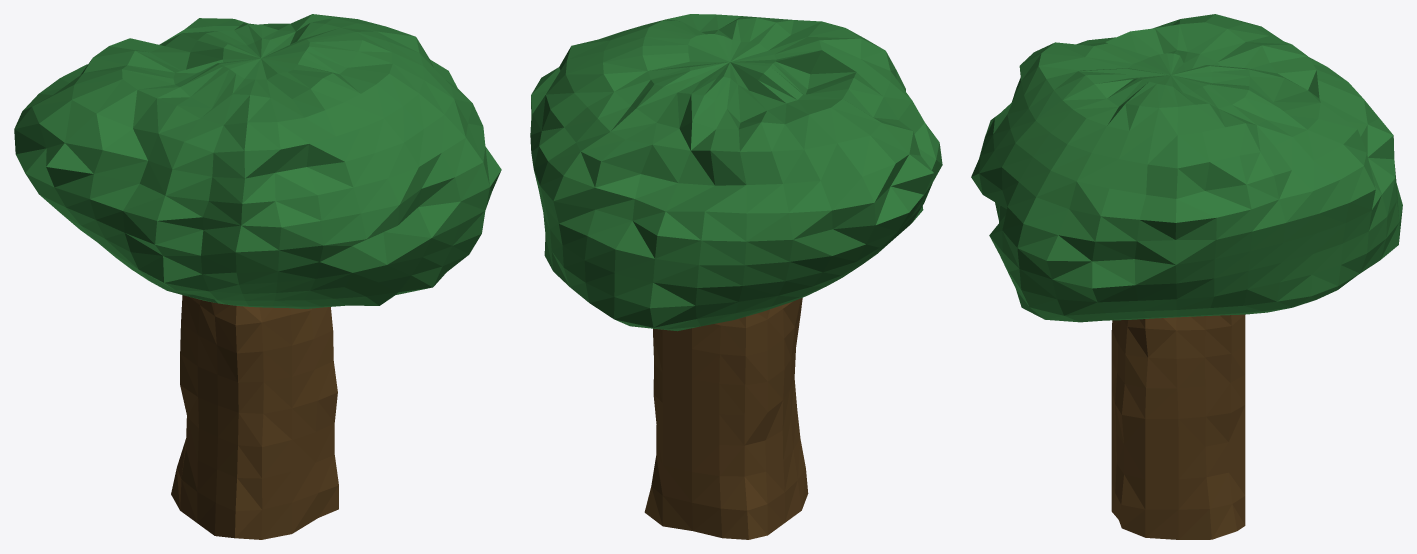
Rendered from Tree.dae.
The picture shows the model from 3 angles, left to right: view 1: azimuth 30°, elevation 25°; view 2: azimuth 150°, elevation 25°; view 3: azimuth 270°, elevation 25°; orthographic projection. The views are drawn at different scales.
Parts seen in each view (by area): view 1: Sphere, Cube; view 2: Sphere, Cube; view 3: Sphere, Cube.
Part boxes in pixels (x1,y1,x2,y2): Sphere: (14,14,501,308); Cube: (171,295,338,539); Sphere: (530,14,942,331); Cube: (644,298,808,539); Sphere: (971,14,1402,322); Cube: (1111,314,1245,539).
Size of the model in its own units: 1.67 by 1.62 by 1.85.
